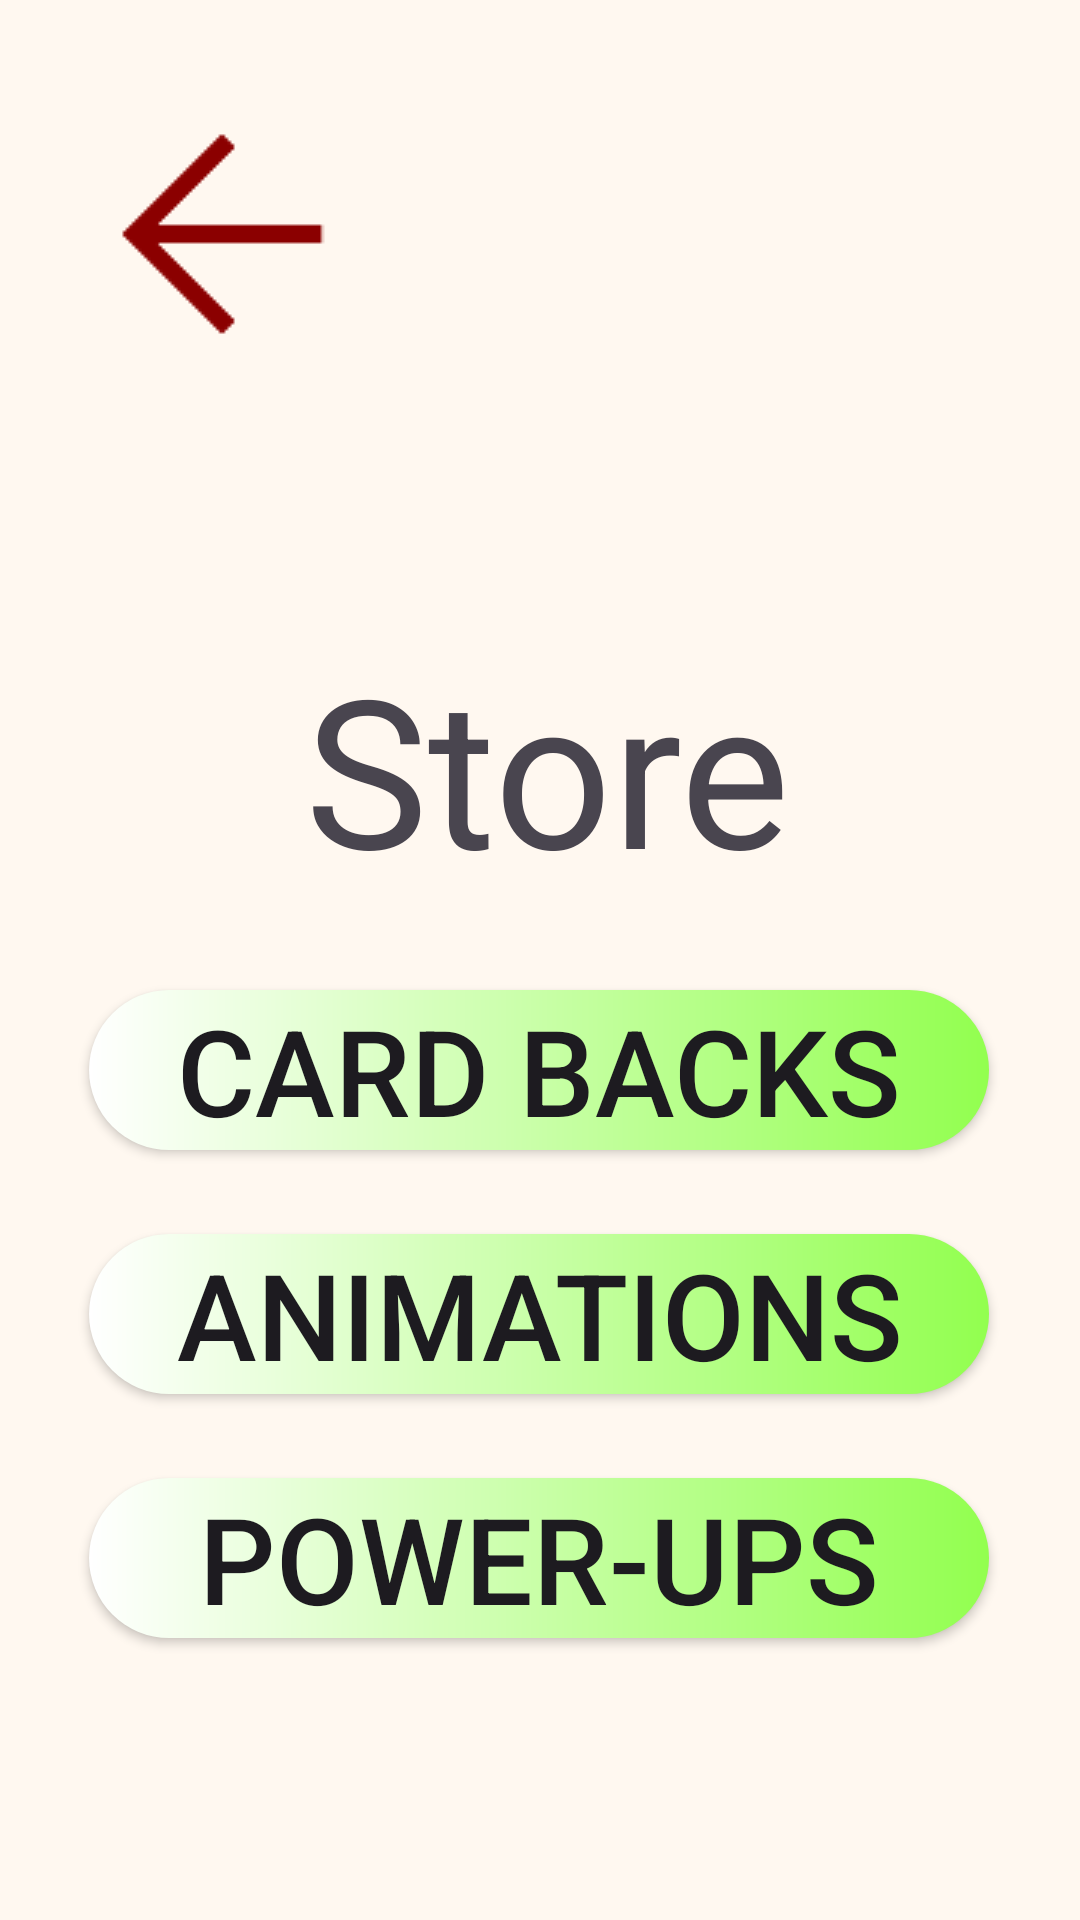

Point at icon controls on the screen. Image size 1080x1920, points as (x,y).
arrowback: (223,234)
